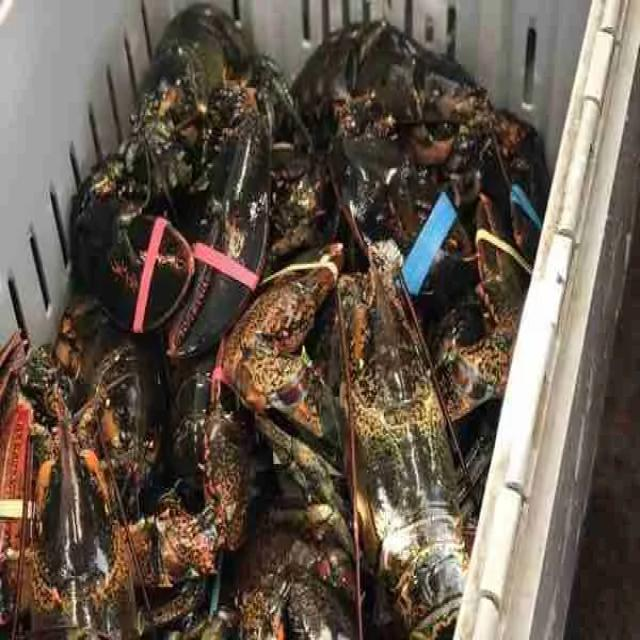Lobster: (221, 180, 528, 638), (71, 4, 299, 357)
